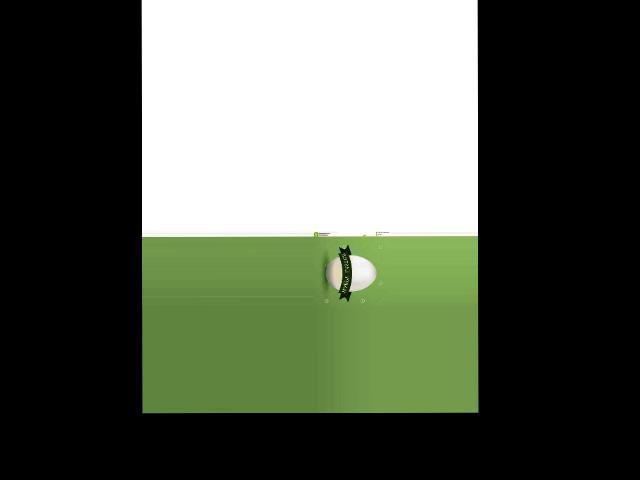egg: (325, 254, 376, 290)
